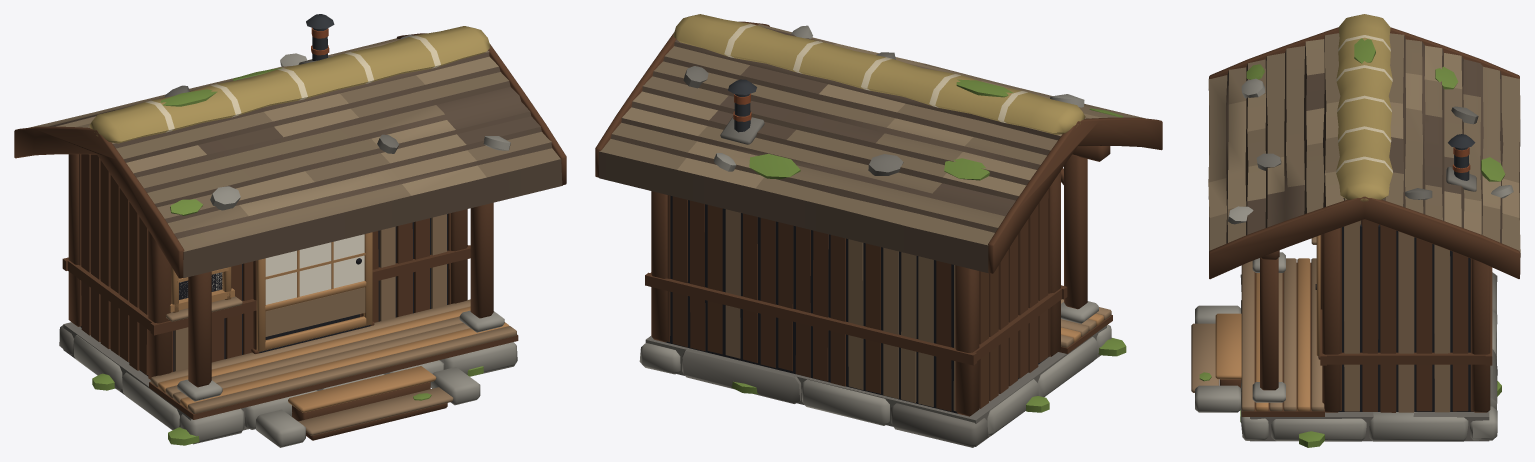
The model's file is hut.glb.
The picture shows the model from 3 angles, left to right: view 1: azimuth 30°, elevation 25°; view 2: azimuth 150°, elevation 25°; view 3: azimuth 270°, elevation 25°; orthographic projection. The views are drawn at different scales.
Parts seen in each view (by area): view 1: hut, door; view 2: hut; view 3: hut, door.
Part boxes in pixels (x1=…): hut: x1=14, y1=14, x2=566, y2=447; door: x1=256, y1=232, x2=372, y2=351; hut: x1=595, y1=14, x2=1162, y2=447; hut: x1=1191, y1=14, x2=1520, y2=447; door: x1=1315, y1=235, x2=1320, y2=356.
Size of what is drawn, in the model's own units: 4.54 by 3.24 by 3.55.
